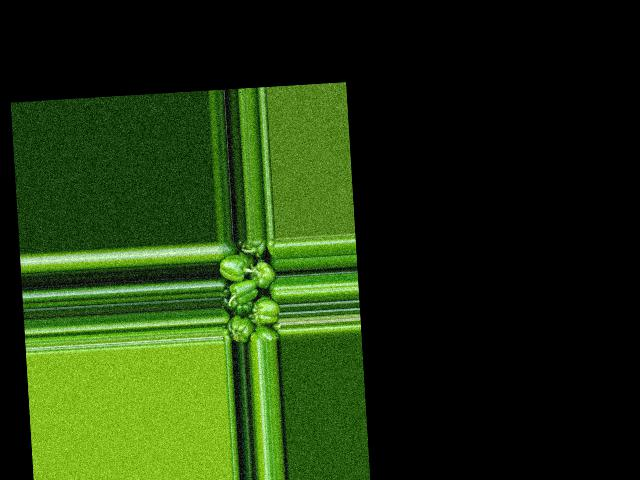bell_pepper: (216, 239, 237, 264)
